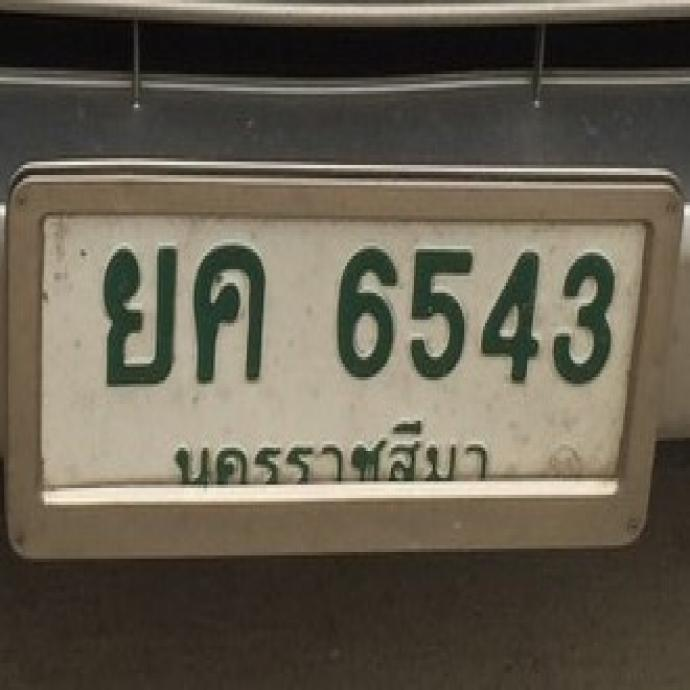3: (550, 249, 613, 382)
4: (478, 245, 539, 381)
5: (407, 244, 470, 378)
6: (334, 244, 394, 376)
A04: (191, 241, 265, 379)
A34: (100, 240, 175, 384)
NMA: (150, 407, 505, 502)
